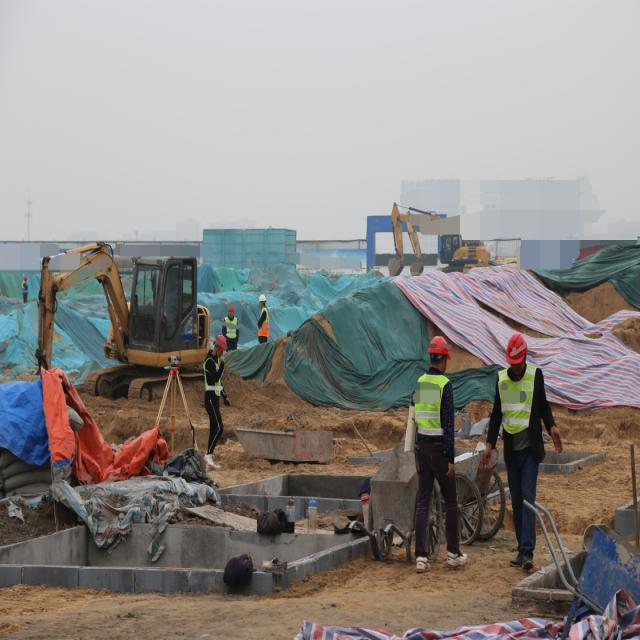excavator: (34, 241, 210, 399), (406, 211, 494, 276), (388, 202, 431, 275)
